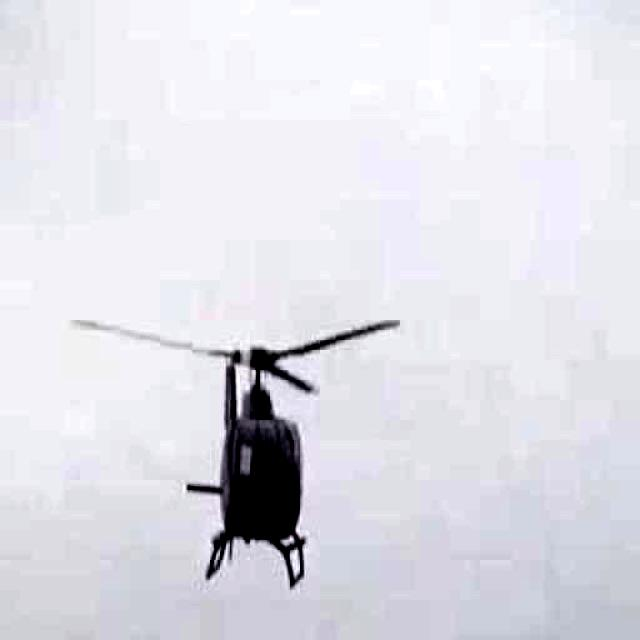drone: (70, 190, 454, 640)
